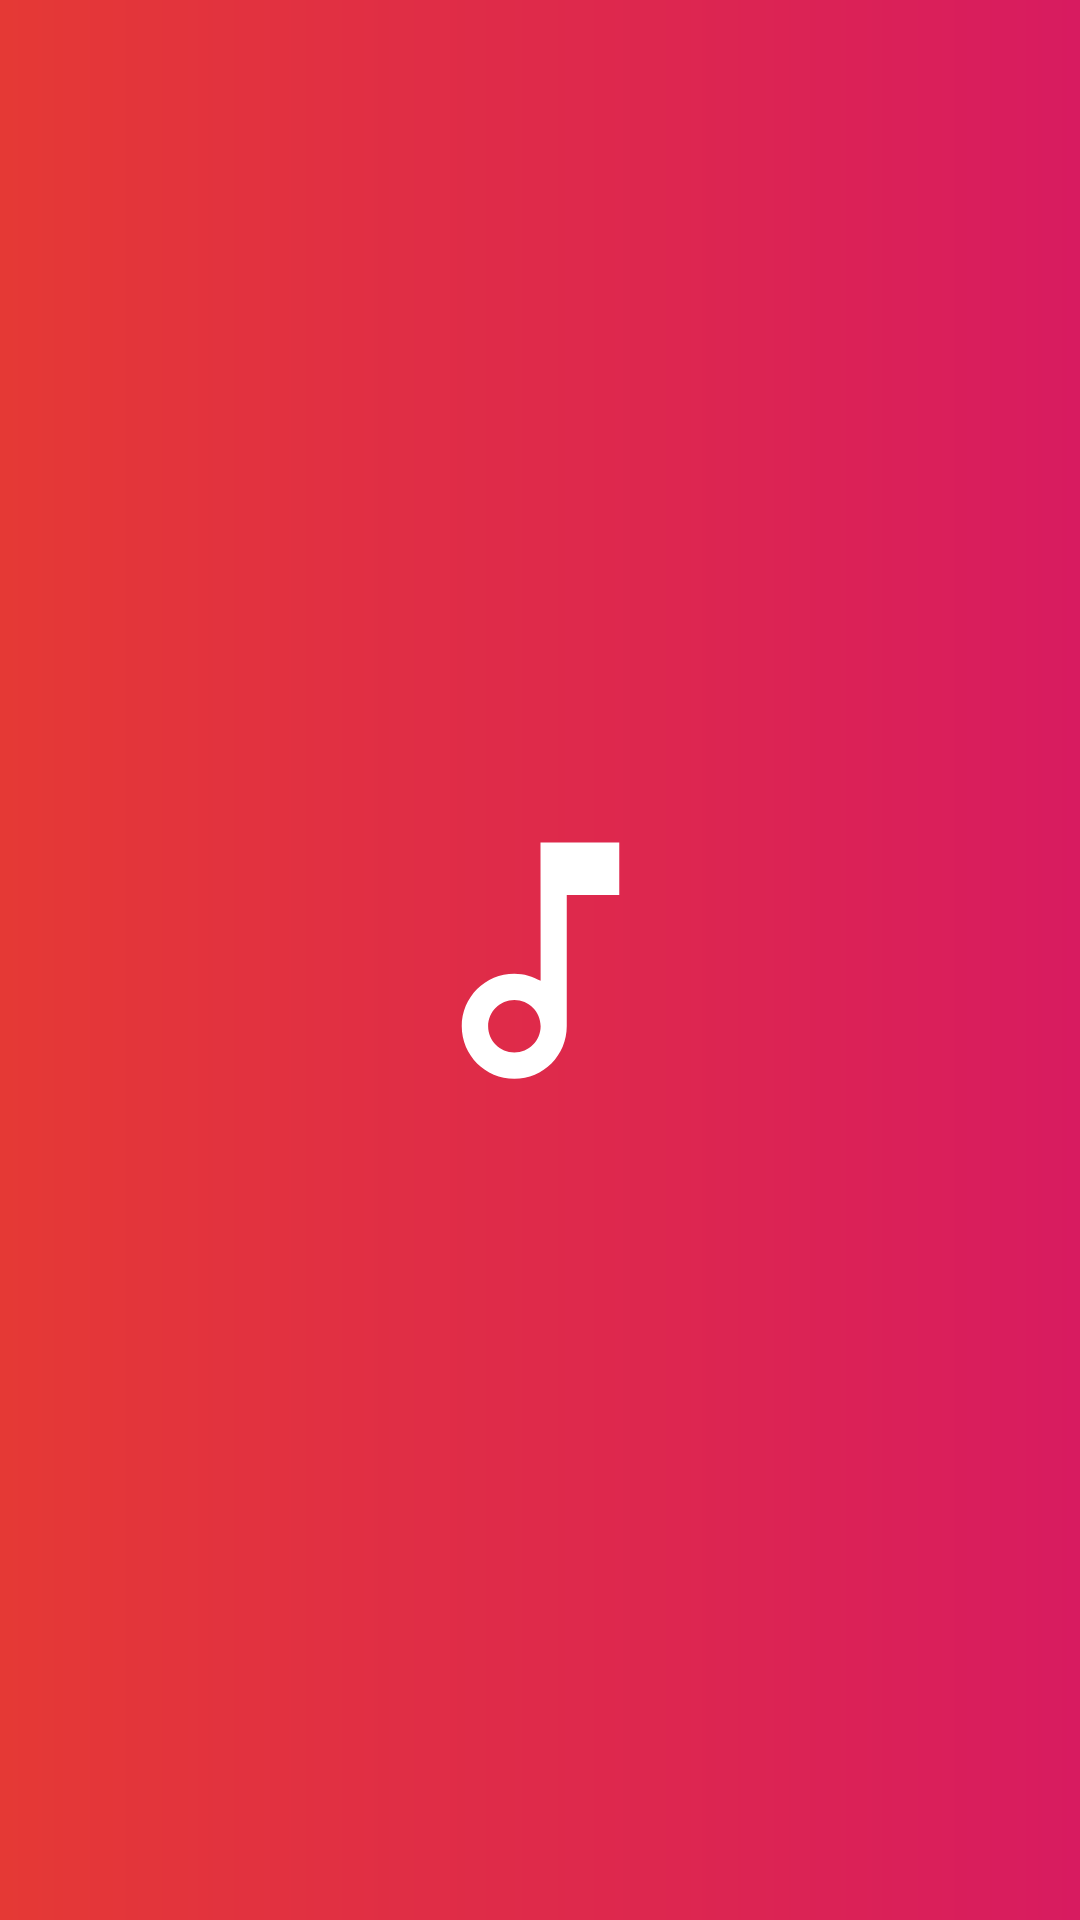

Icon bounding boxes for this 1080 × 1920 phone screenshot, format (x1, y1, x2, y2):
music note: (461, 842, 620, 1079)
